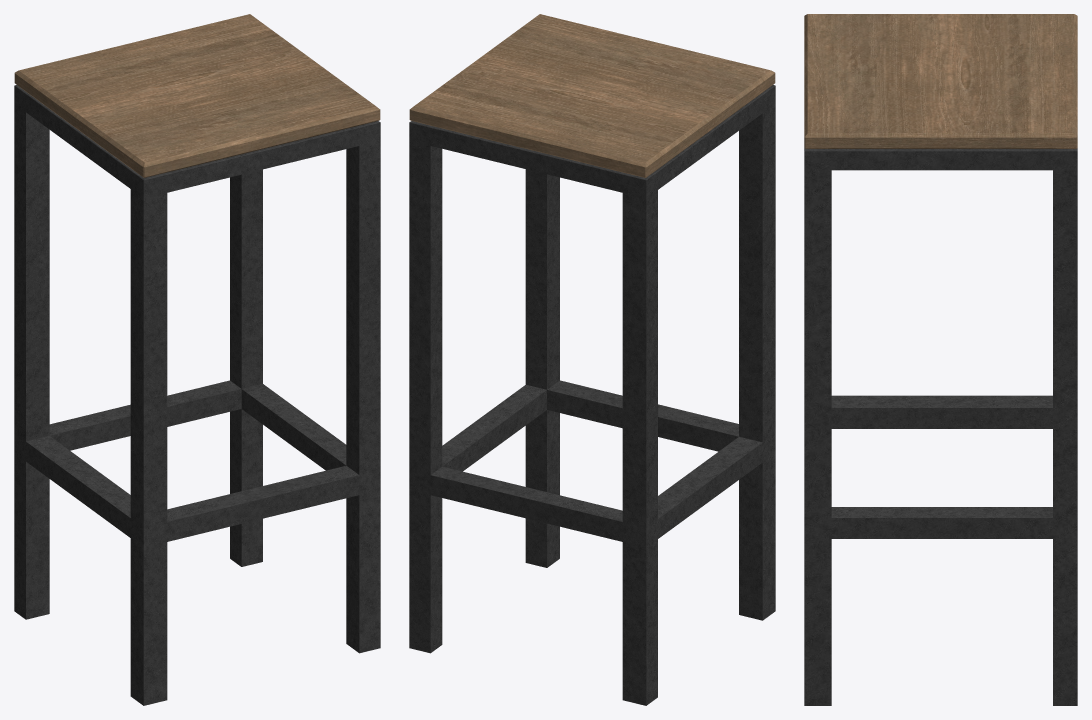
The picture shows the model from 3 angles, left to right: view 1: azimuth 30°, elevation 25°; view 2: azimuth 150°, elevation 25°; view 3: azimuth 270°, elevation 25°; orthographic projection. The views are drawn at different scales.
Visible parts, largest first — view 1: Chair; view 2: Chair; view 3: Chair.
Part boxes in pixels (left/top/right/bottom): Chair: left=14, top=14, right=380, bottom=705; Chair: left=409, top=14, right=775, bottom=705; Chair: left=804, top=14, right=1077, bottom=705.
Bounding box in the file's own units: 0.37 × 0.8076 × 0.35.
Materials: 2 (2 with a texture image).
